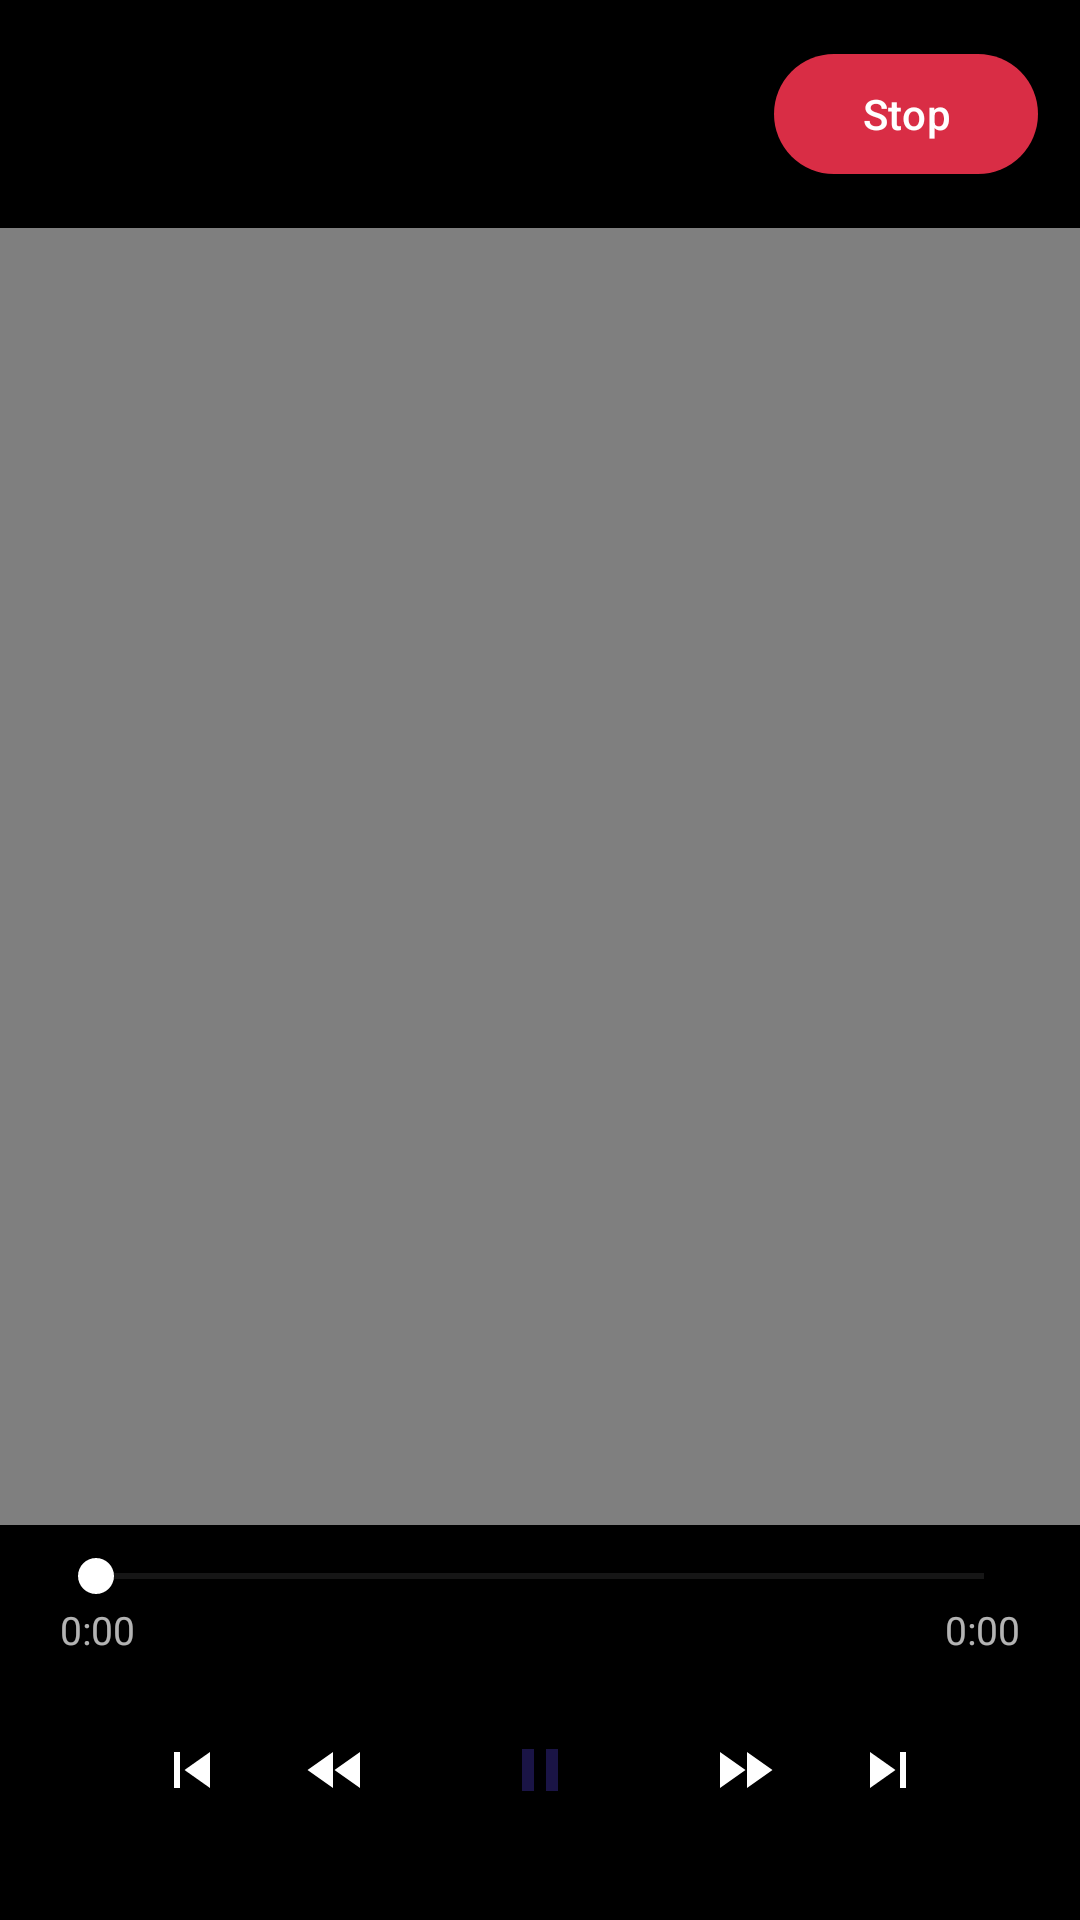

Screen size 1080 x 1920. Icon name, then its center in pixels as (x,y):
Back 10 seconds: (334,1770)
Forward 10 seconds: (746,1770)
Next: (888,1770)
Play or pause: (540,1770)
Previous: (192,1770)
